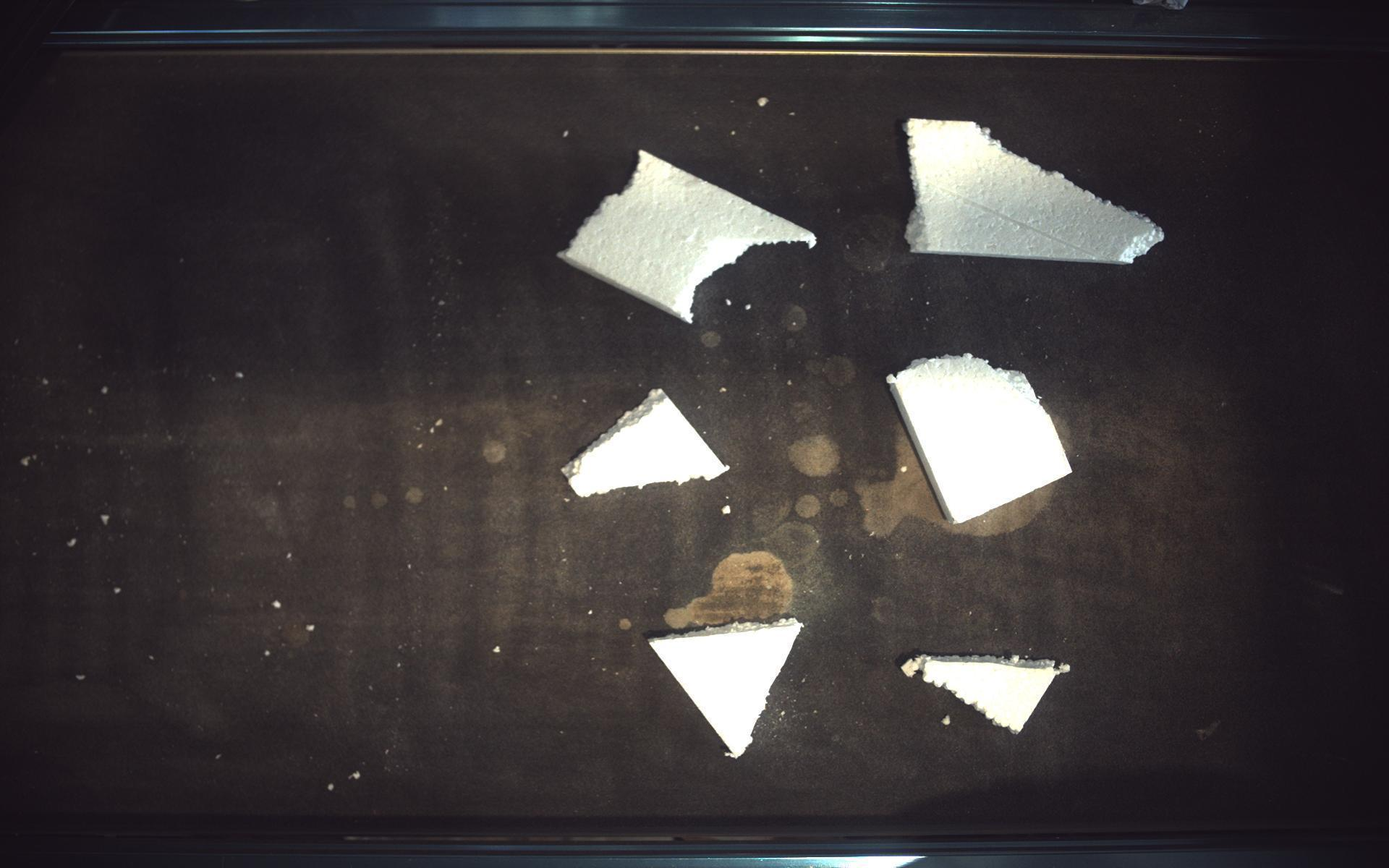foam: (560, 149, 817, 323), (906, 117, 1166, 263), (888, 354, 1074, 524), (650, 620, 804, 759), (562, 388, 730, 498), (904, 656, 1072, 734)
